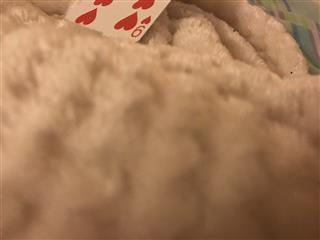NineOfHearts: (71, 1, 172, 42)
